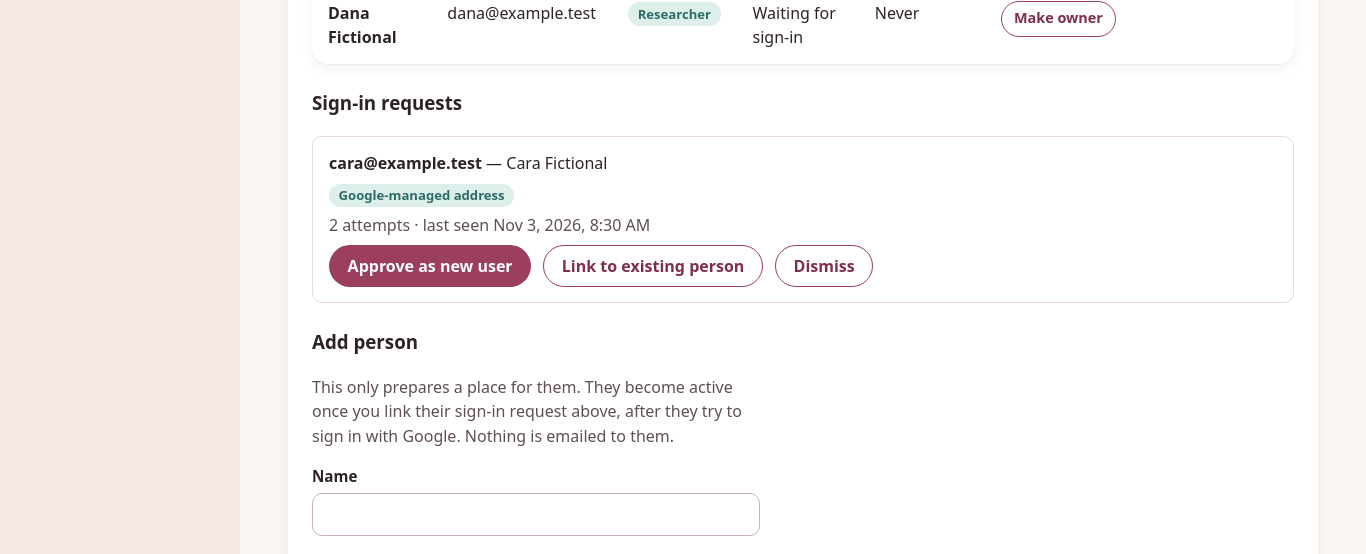
Test: Users administration › approves a request as a new user with the name prefilled
The width and height of the screenshot is (1366, 554).
(page scrolled)
Expected: the text "Google-managed address" is shown, [329,184,514,207]
Click the button with aria-label "Approve cara@example.test as new user" at (430, 266), box [329,245,531,287]
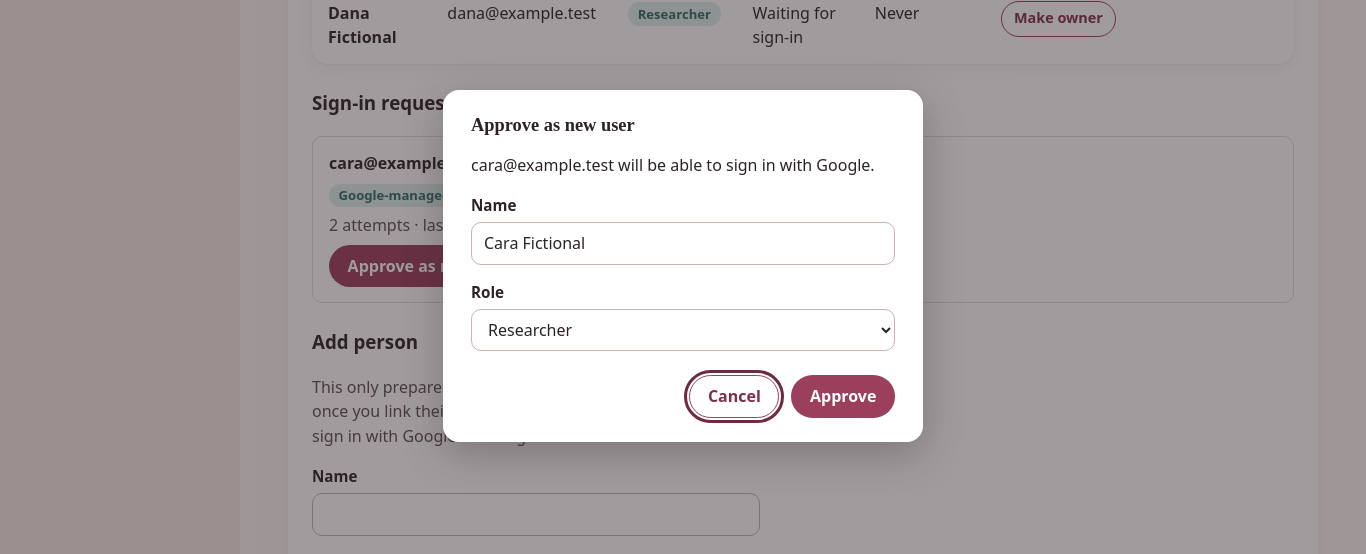
Now the field labelled "Name" holds "Cara Fictional", box [471,222,895,265]
Click the button "Approve" at (843, 397), box [791,375,895,418]
(page scrolled)
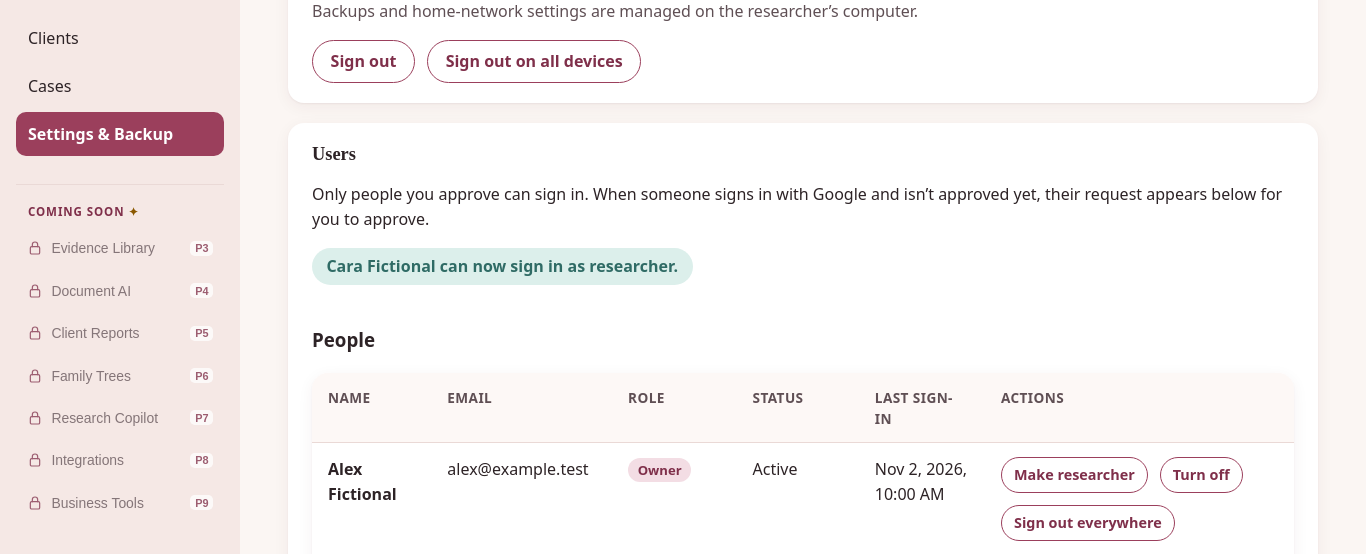
Now the text "Cara Fictional can now sign in as researcher." is shown, box [312,248,692,285]
